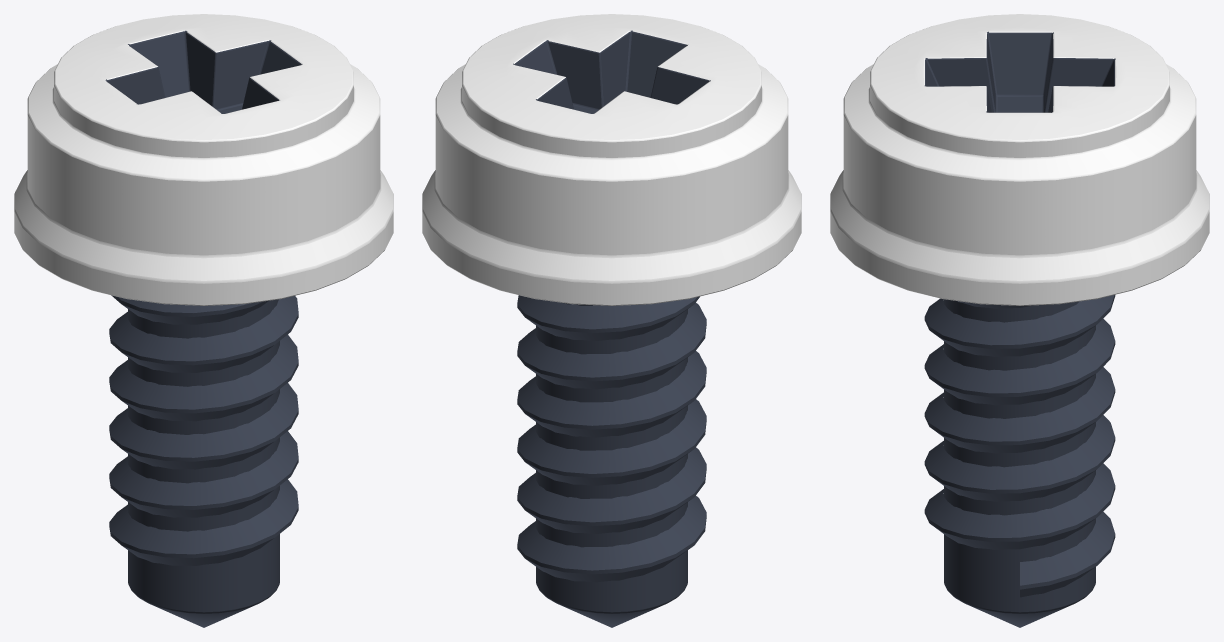
Rendered from screw.glb.
3 views of the same model, side by side, from view 1: azimuth 30°, elevation 25°; view 2: azimuth 150°, elevation 25°; view 3: azimuth 270°, elevation 25° (orthographic).
Visible parts, largest first — view 1: screw; view 2: screw; view 3: screw.
Boxes of the visible parts, x1,y1,x2,y2 form: screw: (14,14,393,627); screw: (422,14,801,627); screw: (830,14,1209,627).
Size of the model in its own units: 0.43 by 0.6921 by 0.4276.
